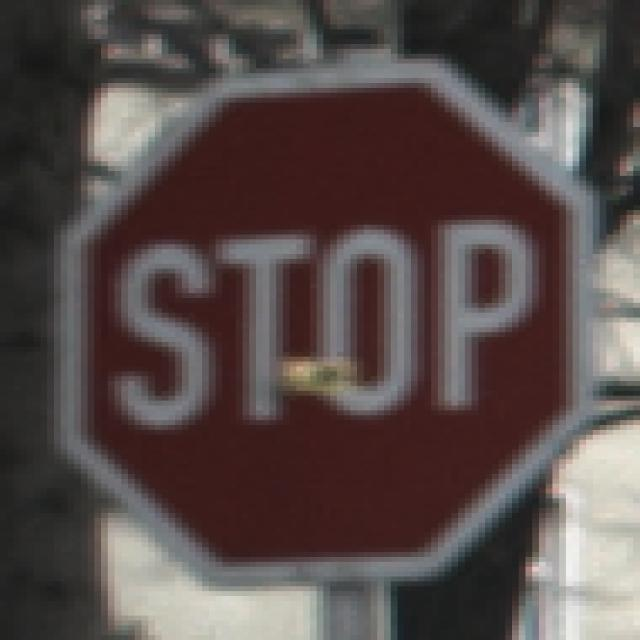STOP: (62, 60, 587, 587)
